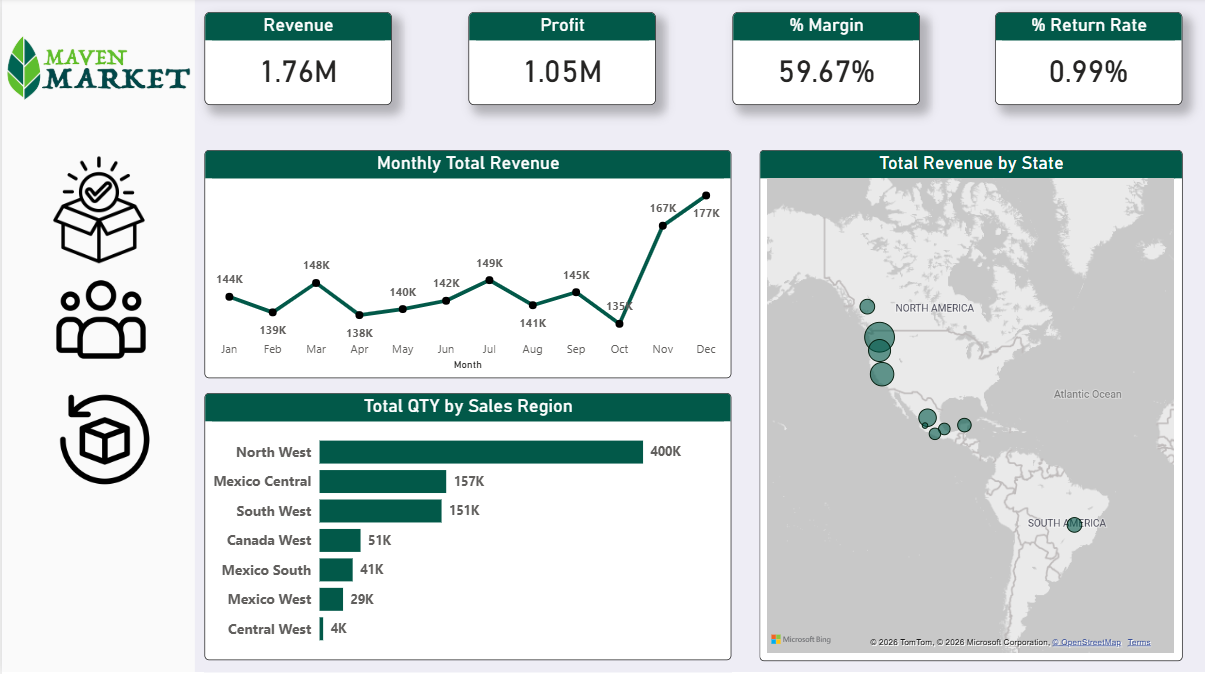

The dashboard page shown, as its layout file describes it:
{"tool":"powerbi","page":{"name":"Executive Overview","canvas":[1280,720],"ordinal":1},"visuals":[{"type":"image","box":[0,0,203.3,150],"z":0},{"type":"card","title":"Revenue","fields":{"Values":["_measures.Total Revenue"]},"box":[215,16.7,198.3,98.3],"z":1000},{"type":"card","title":"Profit","fields":{"Values":["_measures.Profit"]},"box":[494.4,16.7,198.3,98.3],"z":2000},{"type":"card","title":"% Margin","fields":{"Values":["_measures.%Margin"]},"box":[773.9,16.7,198.3,98.3],"z":3000},{"type":"card","title":"% Return Rate","fields":{"Values":["_measures.%Return Rate"]},"box":[1053.3,16.7,198.3,98.3],"z":4000},{"type":"lineChart","title":"Monthly Total Revenue ","fields":{"Y":["_measures.Total Revenue"],"Category":["DimCalendar.Month"]},"box":[215,161.7,558.3,241.7],"z":5000},{"type":"map","title":"Total Revenue by State","fields":{"Size":["_measures.Total Revenue"],"Category":["DimStores.store_state"]},"box":[803.3,161.7,448.3,541.7],"z":6000},{"type":"clusteredBarChart","title":"Total QTY by Sales Region","fields":{"Category":["DimRegions.sales_region"],"Y":["_measures.Total QTY"]},"box":[215,420,558.3,283.3],"z":7000},{"type":"image","box":[46.7,166.7,113.3,116.7],"z":8000},{"type":"image","box":[55,295,98.3,95],"z":9000},{"type":"image","box":[55,420,106.7,98.3],"z":10000}]}

Visuals, with their boxes in screenshot pixels (x1, y1, x2, y2), scaled from the page's 1280x720 canvas onto the 1205x674 screenshot:
image: (left=0, top=0, right=191, bottom=140)
"Revenue" card: (left=202, top=16, right=389, bottom=108)
"Profit" card: (left=465, top=16, right=652, bottom=108)
"% Margin" card: (left=729, top=16, right=915, bottom=108)
"% Return Rate" card: (left=992, top=16, right=1178, bottom=108)
"Monthly Total Revenue " lineChart: (left=202, top=151, right=728, bottom=378)
"Total Revenue by State" map: (left=756, top=151, right=1178, bottom=658)
"Total QTY by Sales Region" clusteredBarChart: (left=202, top=393, right=728, bottom=658)
image: (left=44, top=156, right=151, bottom=265)
image: (left=52, top=276, right=144, bottom=365)
image: (left=52, top=393, right=152, bottom=485)
